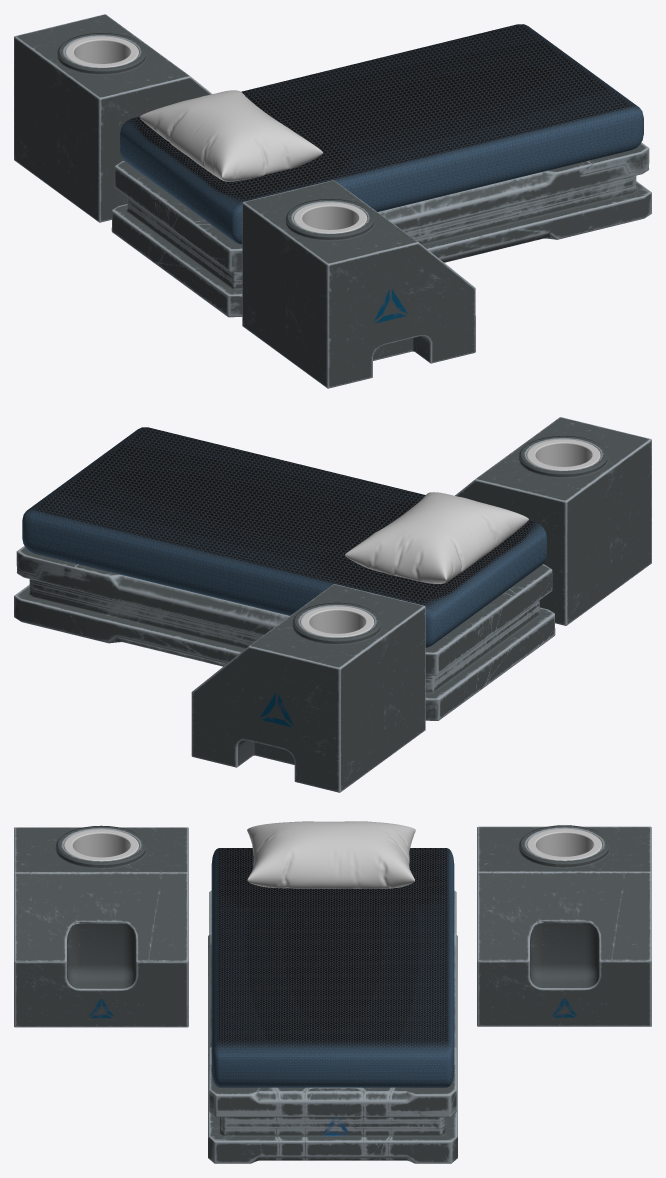
Rendered from Bed&furniture.fbx.
3 renders of one model, top to bottom at view 1: azimuth 30°, elevation 25°; view 2: azimuth 150°, elevation 25°; view 3: azimuth 270°, elevation 25°, orthographic.
Parts seen in each view (by area): view 1: Colchon, Mueble1, Base, Mueble2, Almohada, Mueble1.001, Mueble2.001; view 2: Colchon, Mueble2, Base, Mueble1, Almohada, Mueble1.001, Mueble2.001; view 3: Colchon, Mueble1, Mueble2, Base, Almohada, Mueble2.001, Mueble1.001.
Boxes of the visible parts, x1,y1,x2,y2 form: Colchon: [120, 24, 643, 244]; Mueble1: [242, 180, 475, 388]; Base: [111, 142, 651, 317]; Mueble2: [14, 14, 211, 222]; Almohada: [139, 90, 322, 181]; Mueble1.001: [293, 202, 367, 233]; Mueble2.001: [65, 36, 138, 67]; Colchon: [22, 427, 546, 647]; Mueble2: [191, 584, 425, 792]; Base: [14, 546, 555, 720]; Mueble1: [455, 417, 651, 625]; Almohada: [345, 492, 528, 583]; Mueble1.001: [526, 439, 600, 470]; Mueble2.001: [300, 606, 374, 637]; Colchon: [211, 848, 454, 1087]; Mueble1: [14, 825, 188, 1027]; Mueble2: [477, 825, 651, 1026]; Base: [208, 890, 457, 1163]; Almohada: [247, 821, 415, 888]; Mueble2.001: [527, 828, 602, 860]; Mueble1.001: [63, 829, 139, 861].
Size of the model in its own units: 200 by 68.57 by 255.
